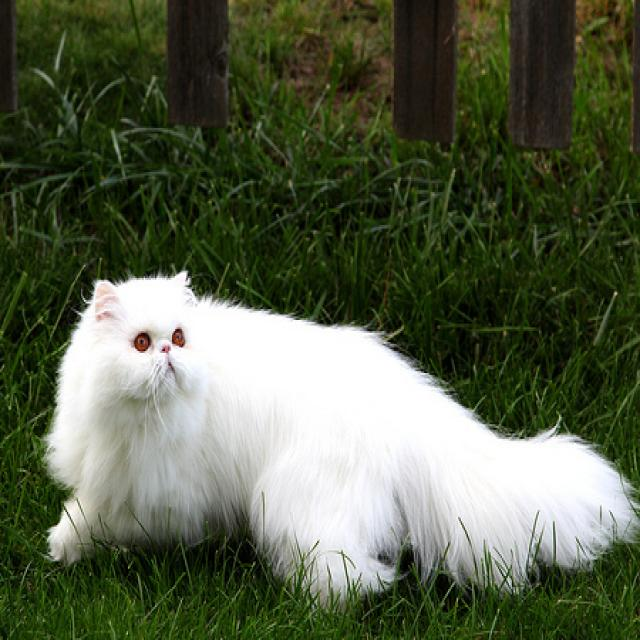Persian: (40, 265, 640, 616)
